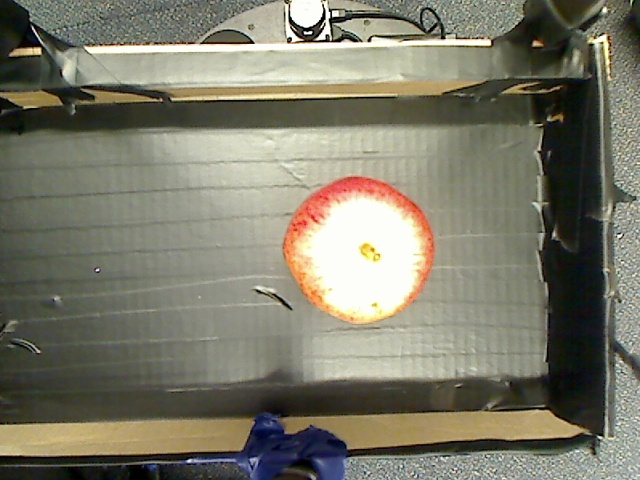apple: (270, 171, 447, 337)
